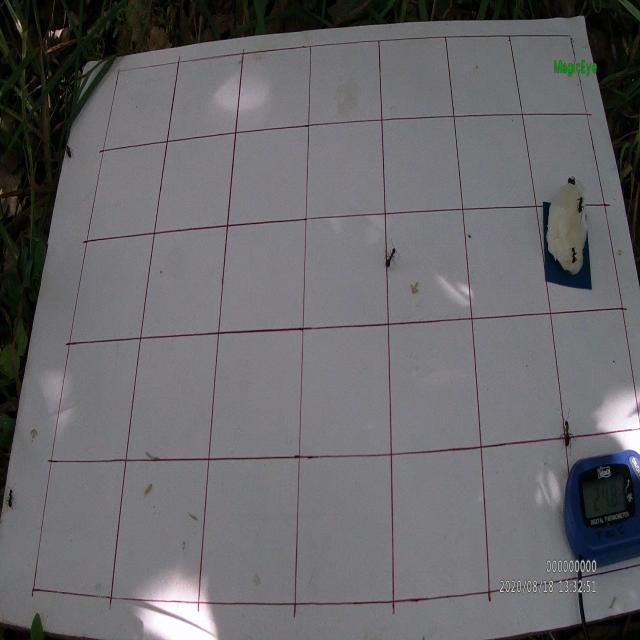Ant: (558, 408, 575, 456), (382, 236, 400, 268), (576, 191, 586, 223), (6, 483, 16, 512), (568, 242, 578, 264), (64, 143, 74, 162), (566, 174, 577, 186)
